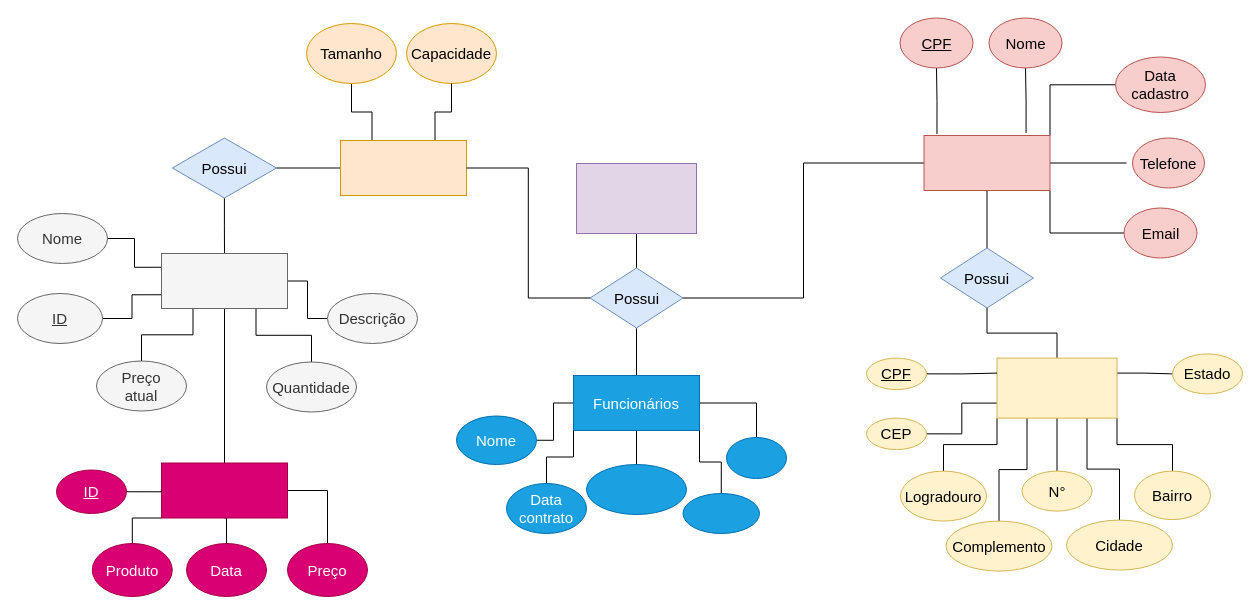
This 1260x614 diagram has some shape labels left out. The shapes that lost their labels are listed below. From the top down, each one's centre as x and y in pixels, then its label:
At (403,168): "Almoxarifado".
At (986,162): "Cadastro clientes".
At (636,198): "Estoque materiais elétricos".
At (224,280): "Produtos".
At (1056,387): "Endereço".
At (756,457): "PIS".
At (224,490): "Preços anteriores".
At (636,489): "Data nascimento".
At (721,513): "Salário".
